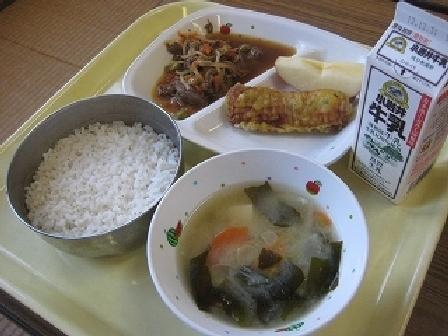Apple: (275, 44, 370, 95)
Milk: (345, 1, 447, 188)
Rice: (7, 95, 168, 242)
Soups: (170, 150, 357, 325)
cooked food based on meat: (143, 20, 255, 96)
snacks: (225, 82, 350, 141)
